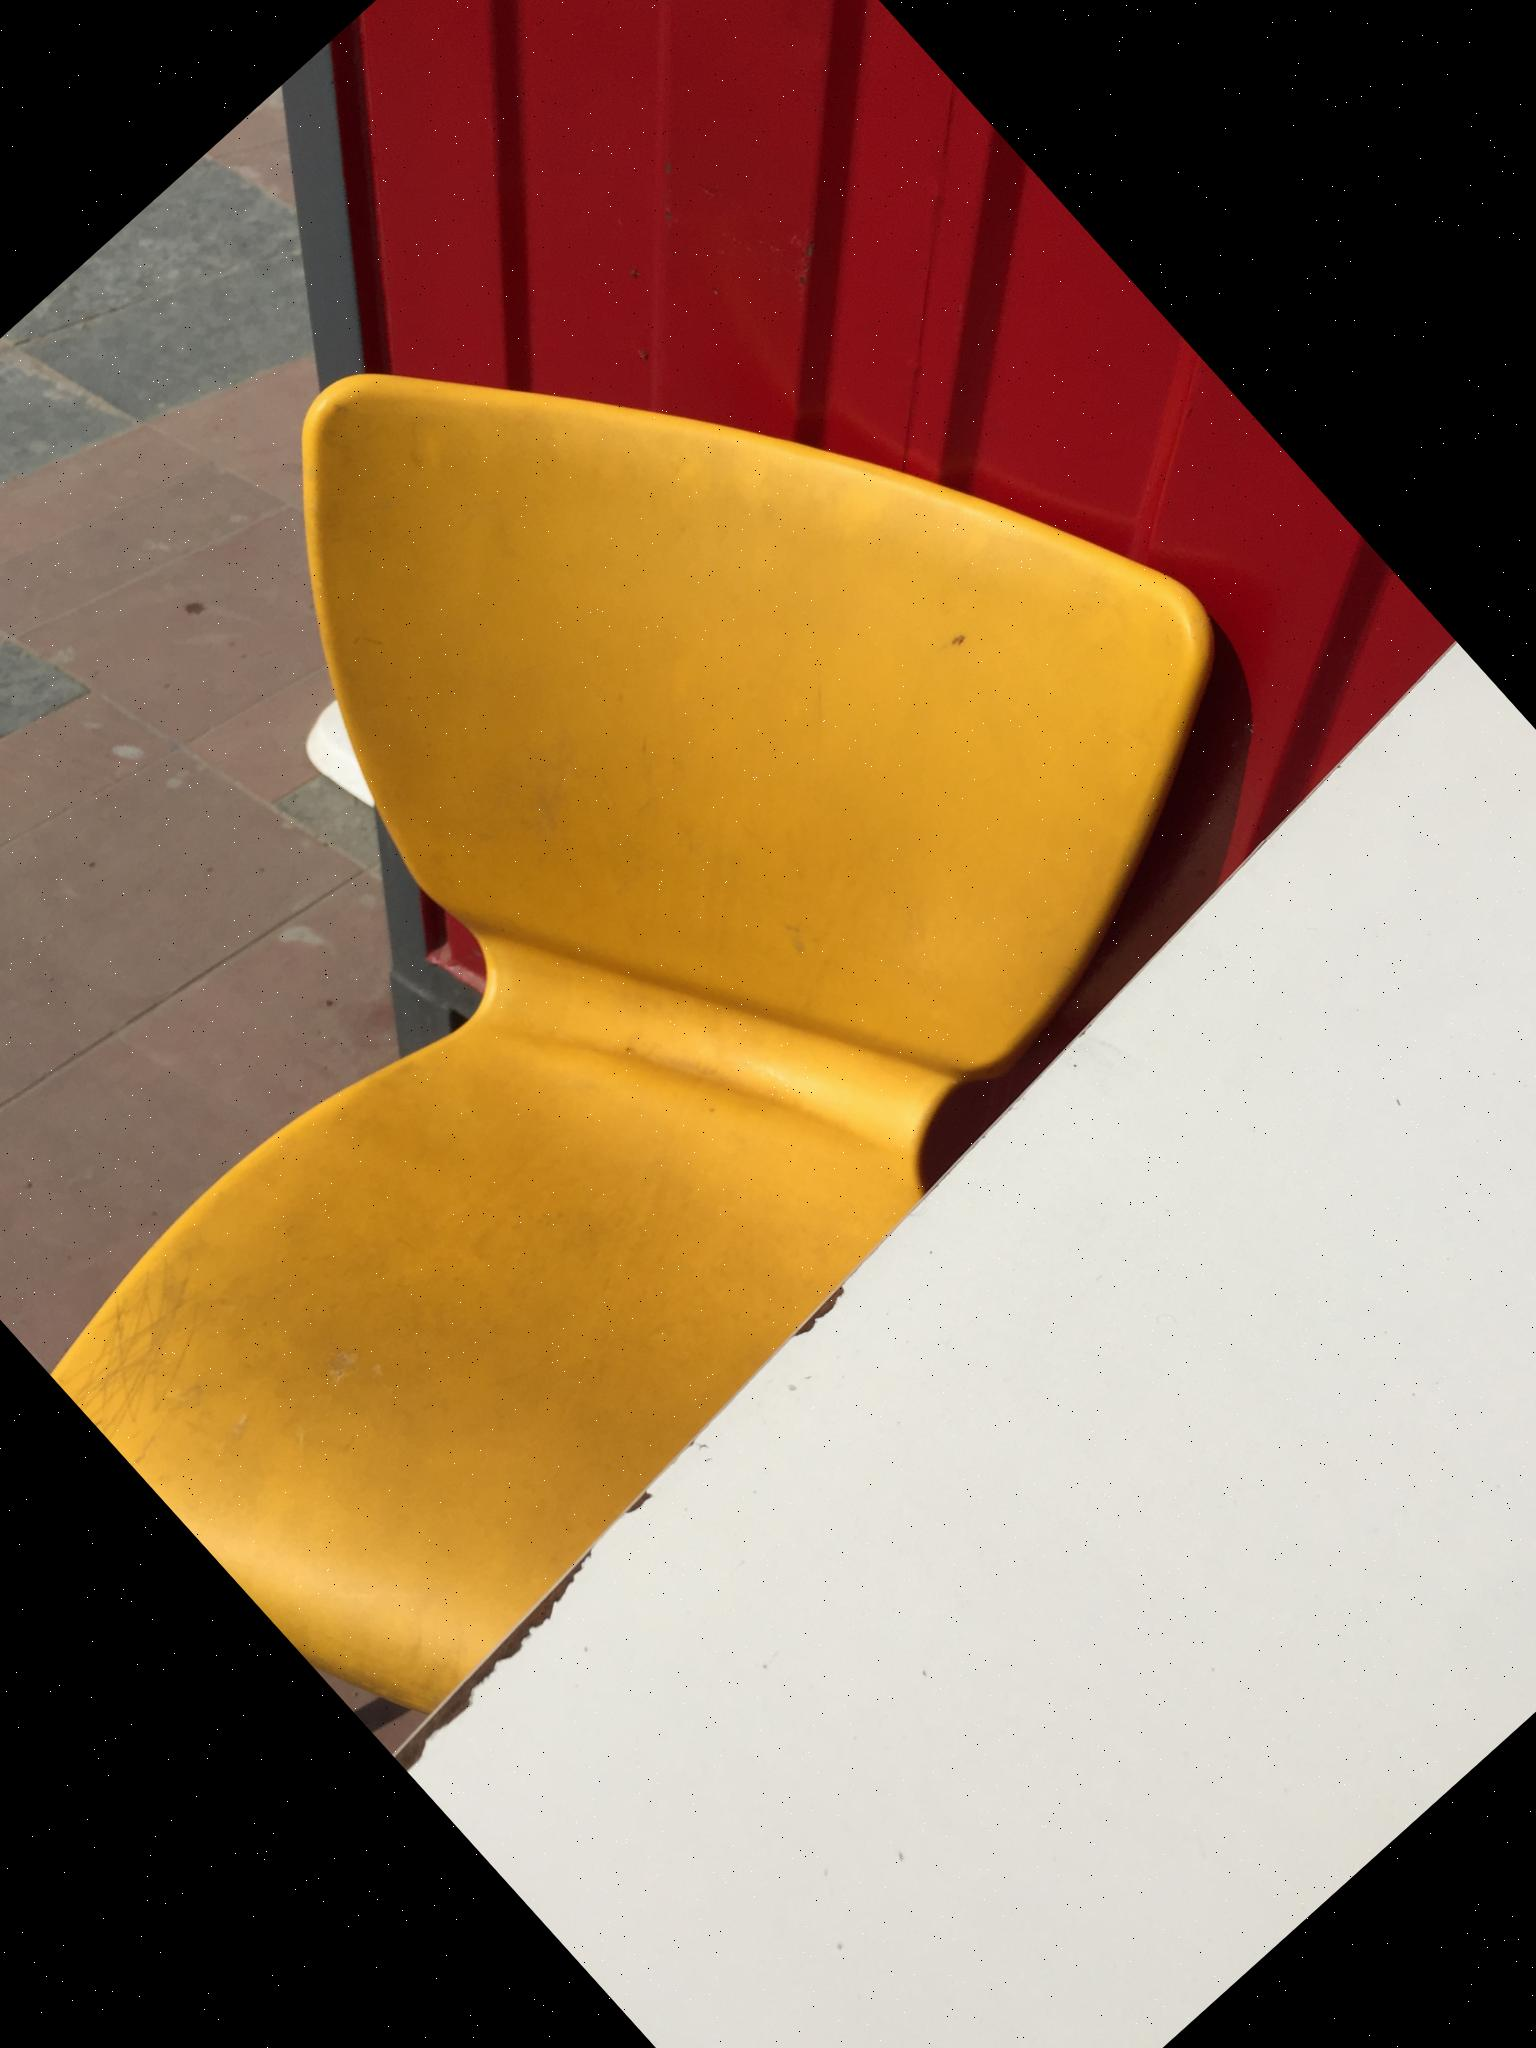chair: (0, 40, 1412, 1750)
